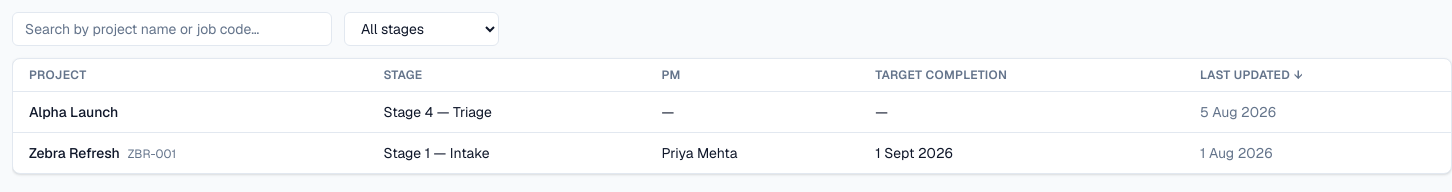
WorkstreamProjectsTable › shows a no-results message when the search matches nothing
Type "nonexistent" into the search field named "Search projects" at (172, 29), box [12,12,332,46]
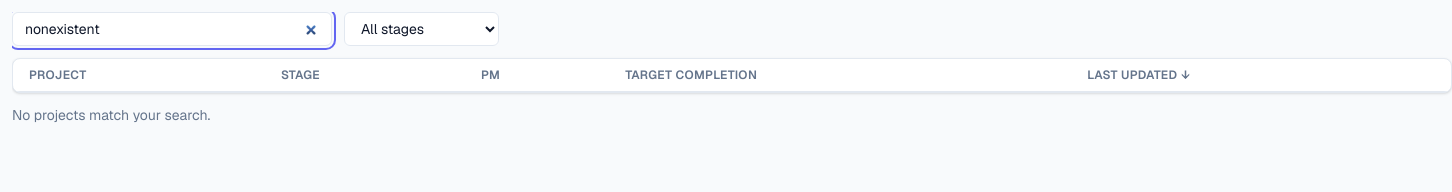
Expected: the text "No projects match your search." is shown, [12,106,210,124]
